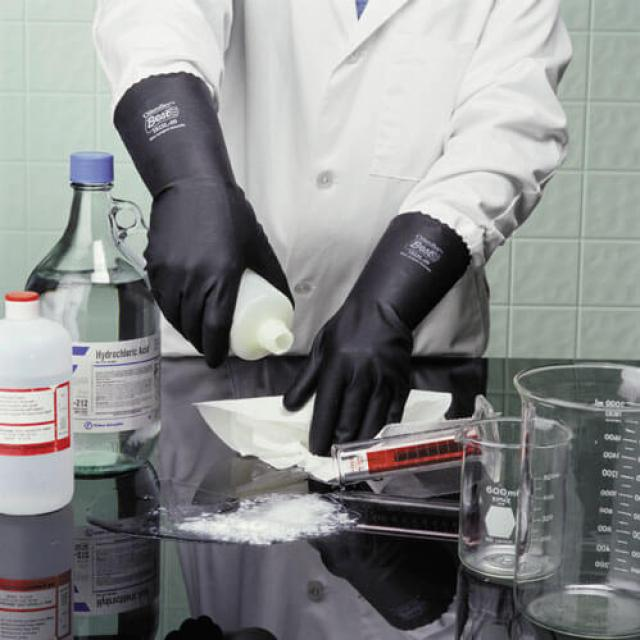gloves: (118, 72, 295, 368), (286, 208, 472, 452)
